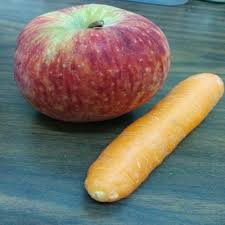carrot: (66, 64, 223, 206)
